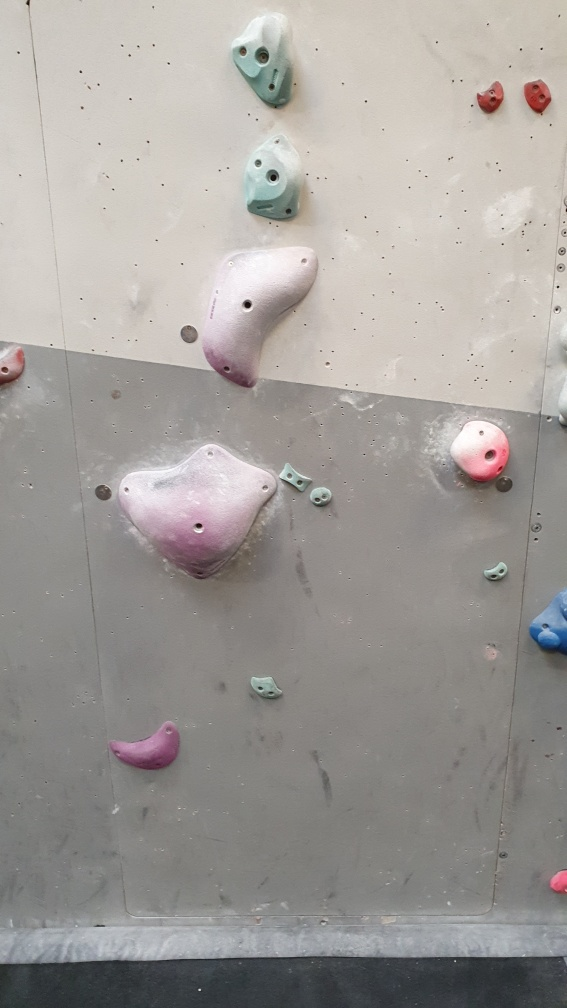Hand Start: (91, 479, 114, 505), (178, 322, 199, 348), (494, 473, 516, 497)
Jug: (228, 9, 301, 117), (241, 128, 309, 226)
Pinch: (522, 77, 552, 120), (278, 464, 315, 494), (479, 557, 511, 588)
Sloper: (525, 585, 567, 661)
